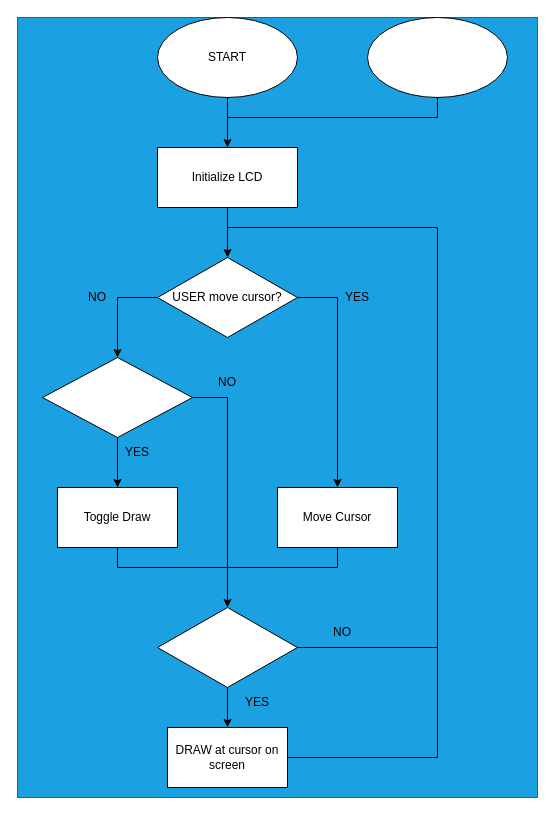
Some shapes in this 555 by 815 pixel diagram are drawn without their labels. The shapes that lost their labels are listed below. From the top down, each one's centre as x and y in pixels, then its label:
At (437,57): "RECEIVE Interrupt (Tilt Switch tilted back)".
At (117,397): "USER turn on/off draw".
At (227,647): "is DRAW true?".
